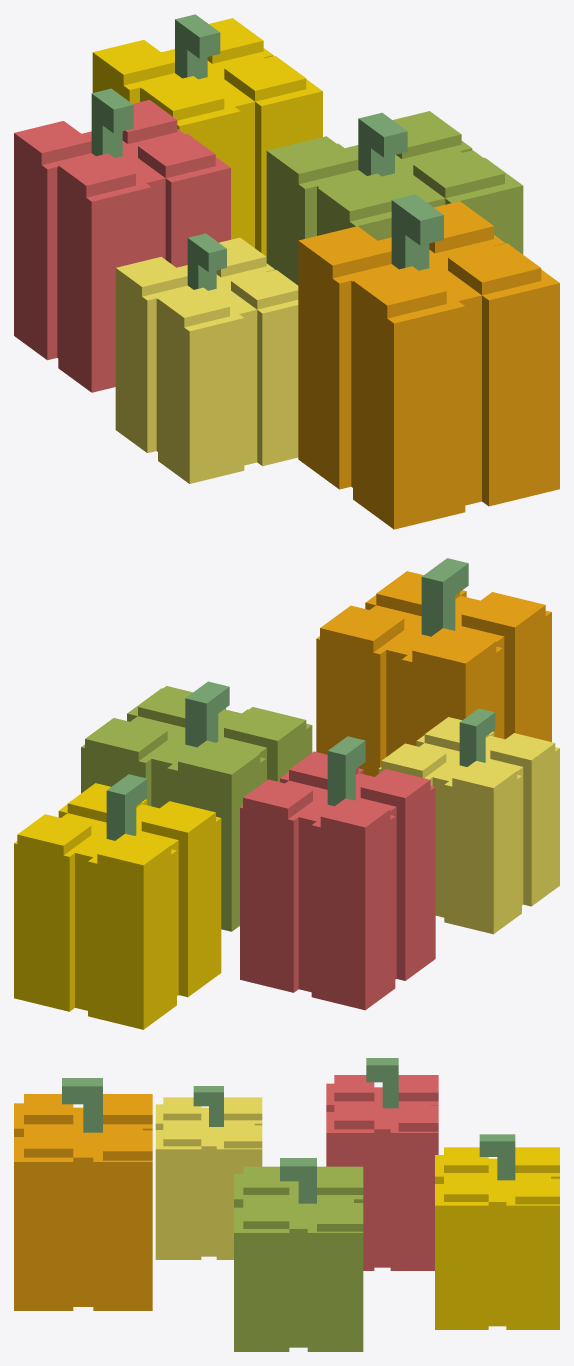
File: bellPeppers.gltf
3 views of the same model, one above another, from view 1: azimuth 30°, elevation 25°; view 2: azimuth 150°, elevation 25°; view 3: azimuth 270°, elevation 25° (orthographic). The views are drawn at different scales.
Visible parts, largest first — view 1: Box_2_-_baked_70, Box_2_-_baked_59, Box_2_-_baked_29, Box_2_-_baked_84, Box_2_-_baked_57, Box_2_-_baked_16, Box_2_-_baked_71, Box_2_-_baked_73, Box_2_-_baked_18, Box_2_-_baked_32, Box_2_-_baked_44, Box_2_-_baked_67 (+38 smaller); view 2: Box_2_-_baked_16, Box_2_-_baked_30, Box_2_-_baked_71, Box_2_-_baked_17, Box_2_-_baked_31, Box_2_-_baked_58, Box_2_-_baked_29, Box_2_-_baked_43, Box_2_-_baked_57, Box_2_-_baked_44, Box_2_-_baked_70, Box_2_-_baked_84 (+39 smaller); view 3: Box_2_-_baked_59, Box_2_-_baked_58, Box_2_-_baked_45, Box_2_-_baked_46, Box_2_-_baked_32, Box_2_-_baked_31, Box_2_-_baked_17, Box_2_-_baked_73, Box_2_-_baked_68, Box_2_-_baked_18, Box_2_-_baked_41, Box_2_-_baked_72 (+38 smaller).
Part boxes in pixels (left/top/right/bottom): Box_2_-_baked_70: left=353, top=293, right=465, bottom=529; Box_2_-_baked_59: left=482, top=269, right=559, bottom=506; Box_2_-_baked_29: left=58, top=176, right=151, bottom=392; Box_2_-_baked_84: left=158, top=308, right=244, bottom=483; Box_2_-_baked_57: left=298, top=253, right=397, bottom=489; Box_2_-_baked_16: left=14, top=145, right=95, bottom=360; Box_2_-_baked_71: left=115, top=277, right=192, bottom=452; Box_2_-_baked_73: left=257, top=300, right=298, bottom=466; Box_2_-_baked_18: left=165, top=157, right=230, bottom=267; Box_2_-_baked_32: left=255, top=79, right=322, bottom=256; Box_2_-_baked_44: left=266, top=143, right=364, bottom=285; Box_2_-_baked_67: left=426, top=270, right=481, bottom=505; Box_2_-_baked_16: left=311, top=815, right=395, bottom=1010; Box_2_-_baked_30: left=88, top=849, right=176, bottom=1029; Box_2_-_baked_71: left=444, top=775, right=521, bottom=934; Box_2_-_baked_17: left=240, top=796, right=323, bottom=992; Box_2_-_baked_31: left=14, top=829, right=102, bottom=1011; Box_2_-_baked_58: left=316, top=624, right=416, bottom=776; Box_2_-_baked_29: left=355, top=786, right=435, bottom=980; Box_2_-_baked_43: left=136, top=816, right=221, bottom=997; Box_2_-_baked_57: left=401, top=646, right=502, bottom=745; Box_2_-_baked_44: left=167, top=747, right=266, bottom=931; Box_2_-_baked_70: left=455, top=610, right=551, bottom=741; Box_2_-_baked_84: left=485, top=747, right=559, bottom=906; Box_2_-_baked_59: left=14, top=1137, right=73, bottom=1310; Box_2_-_baked_58: left=93, top=1137, right=152, bottom=1310; Box_2_-_baked_45: left=307, top=1207, right=363, bottom=1351; Box_2_-_baked_46: left=234, top=1207, right=289, bottom=1351; Box_2_-_baked_32: left=435, top=1184, right=488, bottom=1329; Box_2_-_baked_31: left=506, top=1184, right=559, bottom=1329; Box_2_-_baked_17: left=390, top=1112, right=438, bottom=1270; Box_2_-_baked_73: left=155, top=1130, right=201, bottom=1259; Box_2_-_baked_68: left=73, top=1132, right=93, bottom=1306; Box_2_-_baked_18: left=326, top=1112, right=374, bottom=1270; Box_2_-_baked_41: left=488, top=1180, right=506, bottom=1326; Box_2_-_baked_72: left=216, top=1130, right=262, bottom=1259.
Size of the model in its own units: 155 by 103 by 262.
